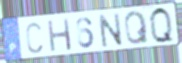6: (75, 16, 95, 50)
C: (24, 21, 44, 55)
H: (46, 17, 73, 54)
N: (97, 12, 125, 50)
Q: (147, 5, 176, 45), (123, 10, 151, 46)
